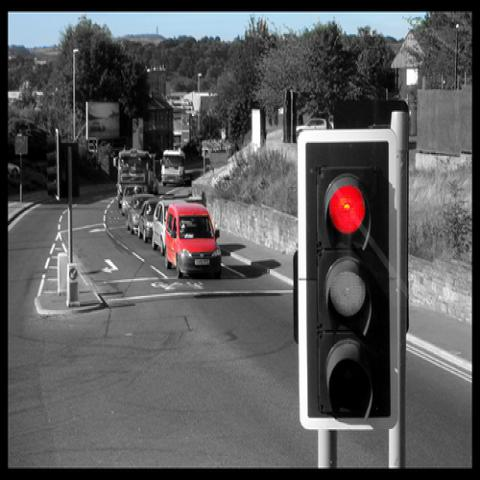car: (164, 202, 222, 280), (152, 199, 186, 253), (125, 193, 155, 234), (138, 198, 163, 243), (122, 185, 145, 216), (9, 162, 20, 176)
truck: (164, 200, 222, 279), (113, 146, 160, 210), (160, 146, 187, 187)
